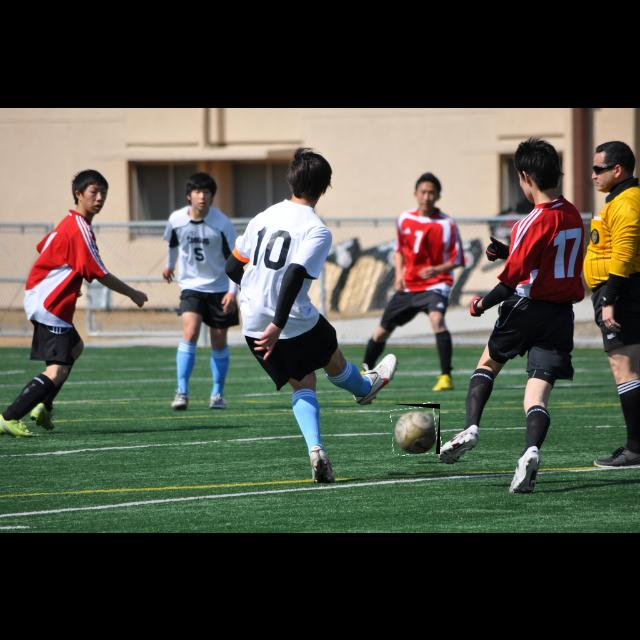Football: (392, 404, 440, 454)
